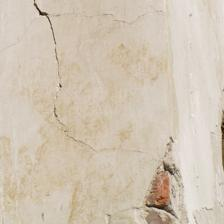Crack: (3, 37, 65, 150), (0, 12, 96, 75)
